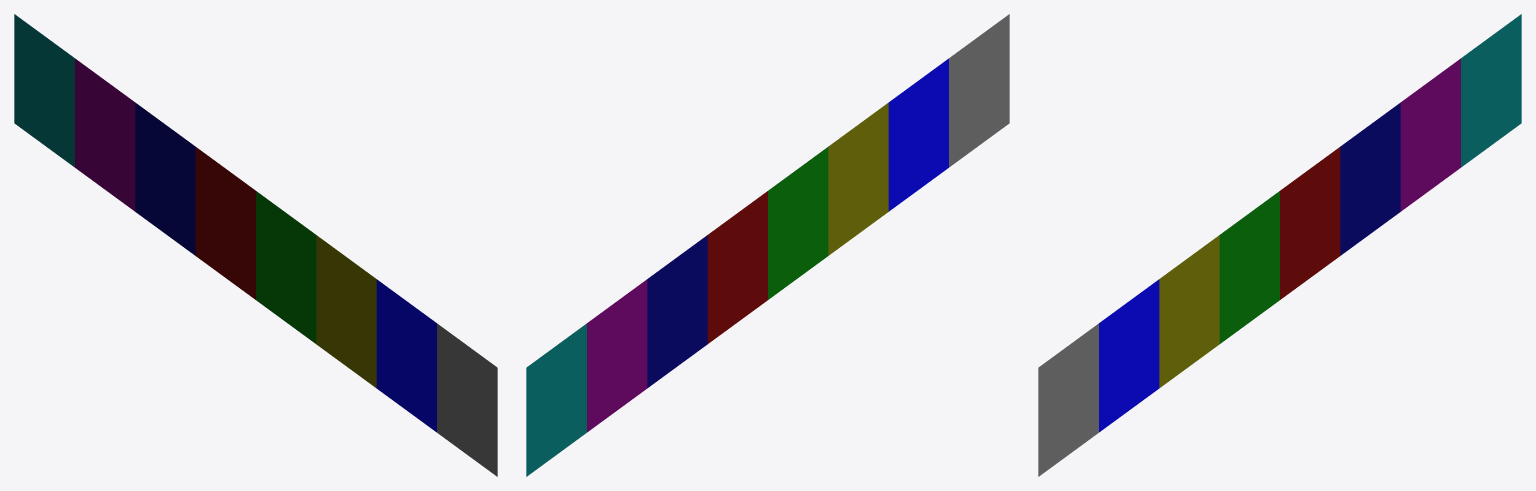
Rendered from HUD Mesh.dae.
3 views of the same model, side by side, from view 1: azimuth 30°, elevation 25°; view 2: azimuth 150°, elevation 25°; view 3: azimuth 330°, elevation 25° (orthographic).
Visible parts, largest first — view 1: prim0; view 2: prim0; view 3: prim0.
Part boxes in pixels (bbox=[...]): prim0: bbox=[14, 14, 497, 476]; prim0: bbox=[526, 14, 1009, 476]; prim0: bbox=[1038, 14, 1521, 476].
Bounding box in the file's own units: 6.56e-07 × 8 × 1.
